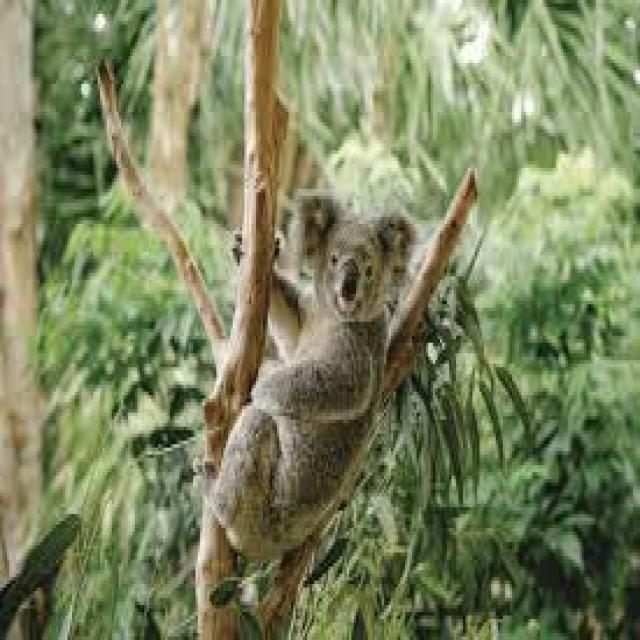Koala: (202, 176, 417, 564)
